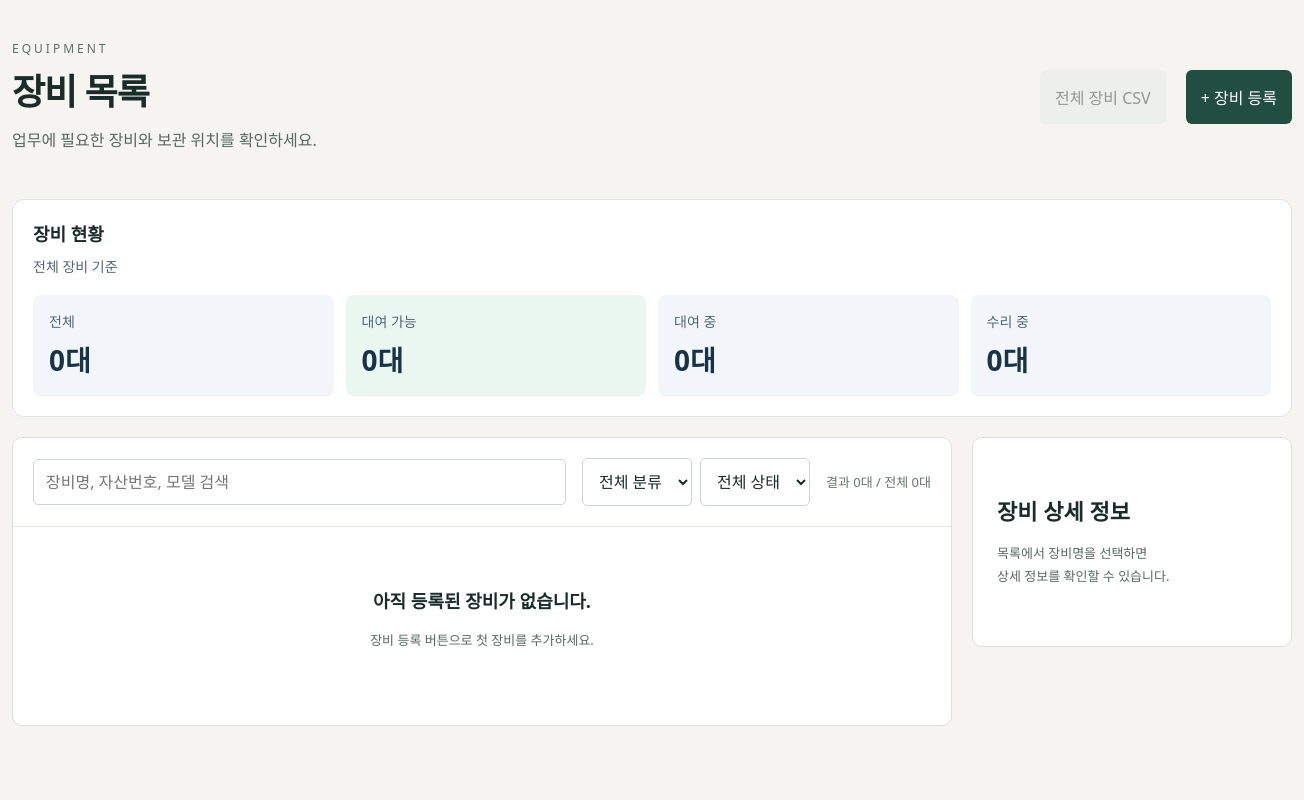
Test case: administrator registers an asset and sees it in the list
Check: the heading "아직 등록된 장비가 없습니다." is shown, box 373,589 -> 591,613
Click the button "+ 장비 등록" at (1239, 97), box 1186,70 -> 1292,124
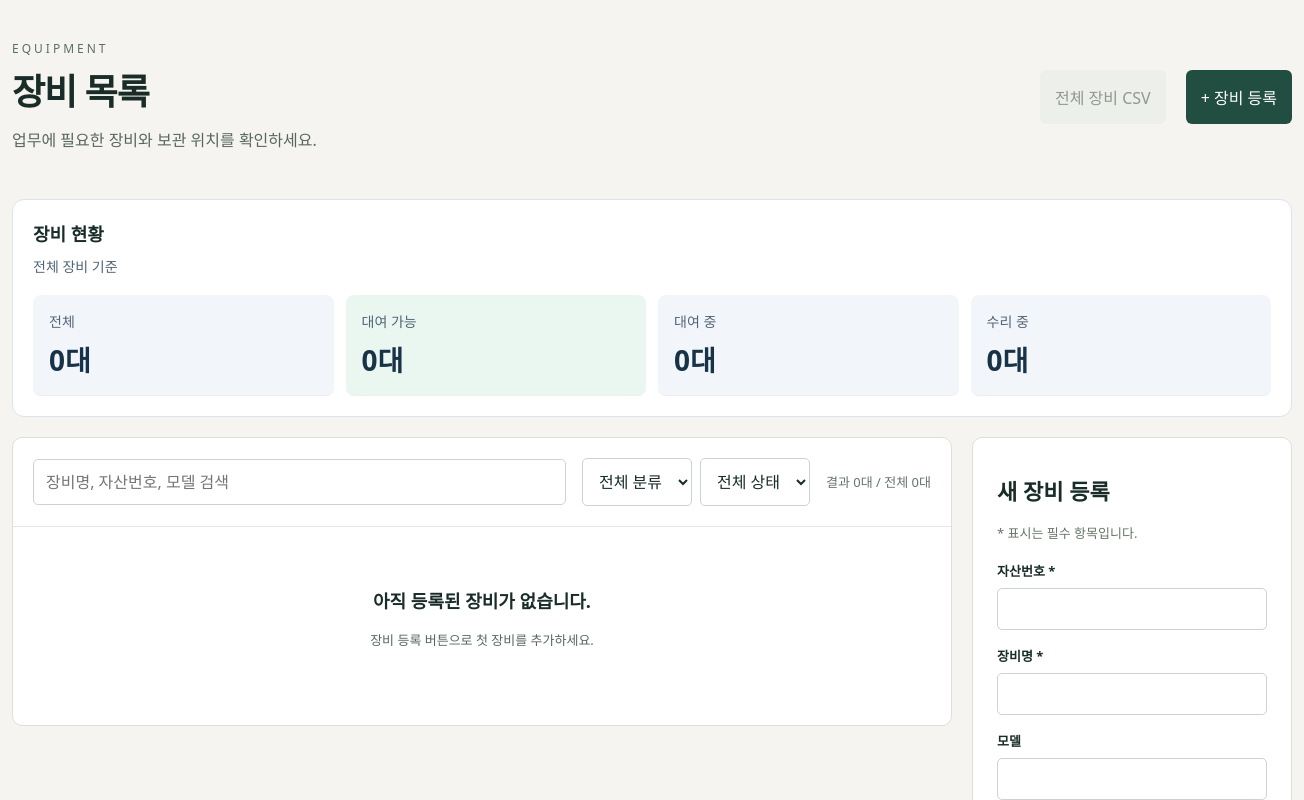
Type "TEST-001" into the field labelled "자산번호 *" at (1132, 609), box 997,588 -> 1267,630
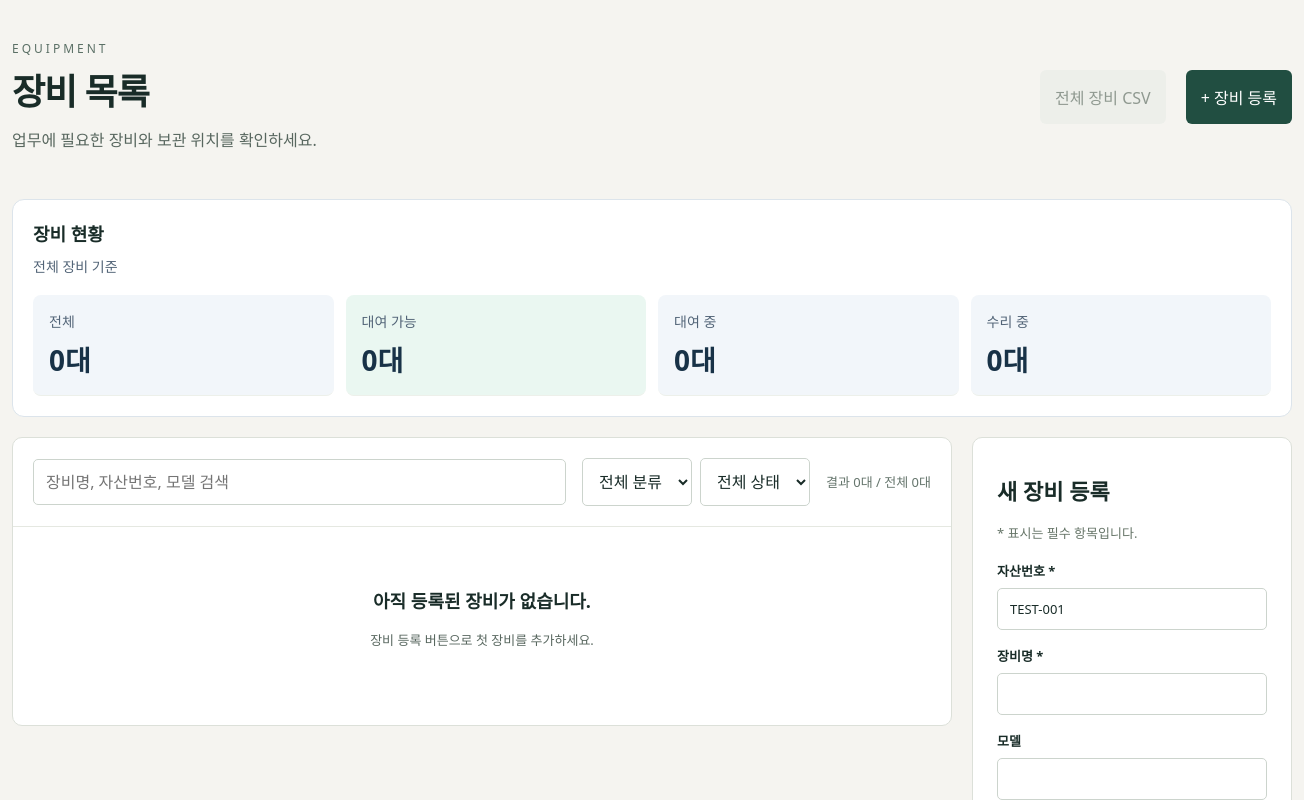
Type "테스트 노트북" into the field labelled "장비명 *" at (1132, 694), box 997,673 -> 1267,715
(page scrolled)
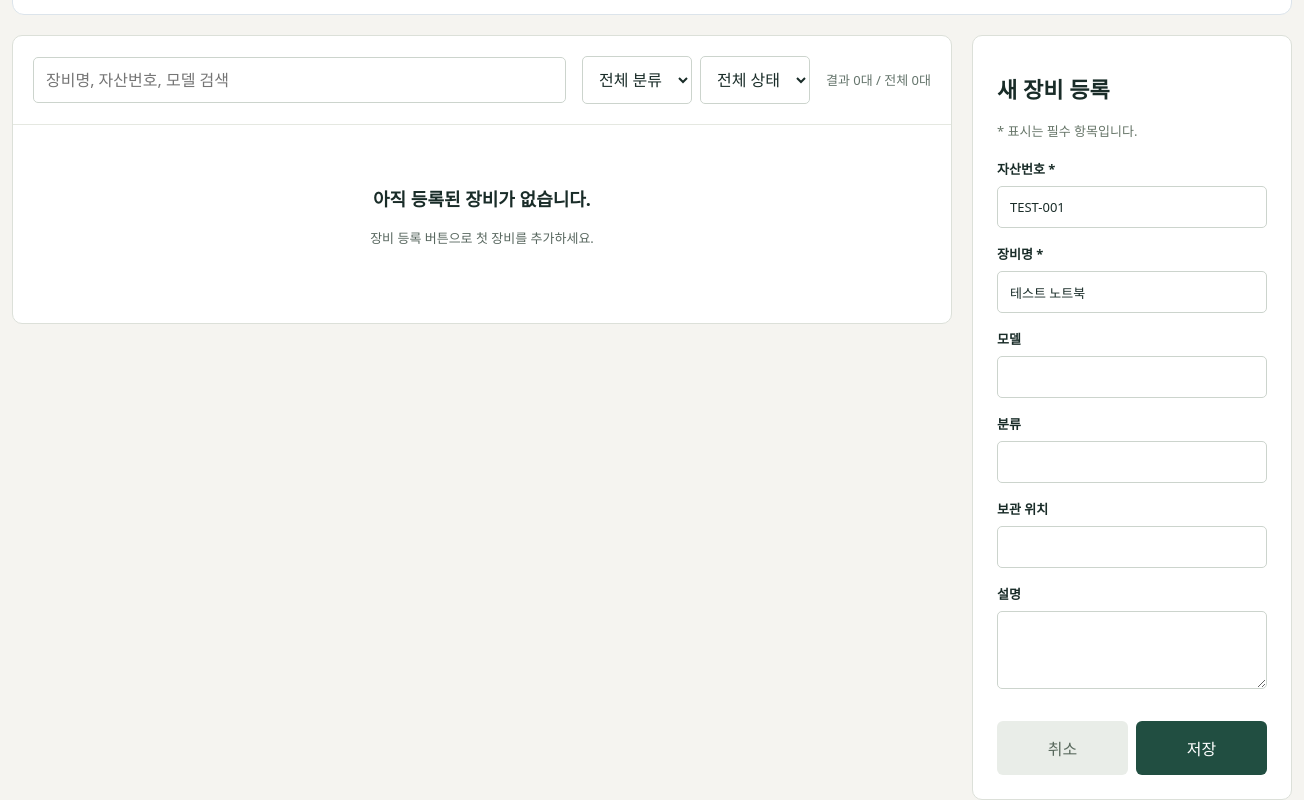
Click the button "저장" at (1202, 748), box 1136,721 -> 1267,775
(page scrolled)
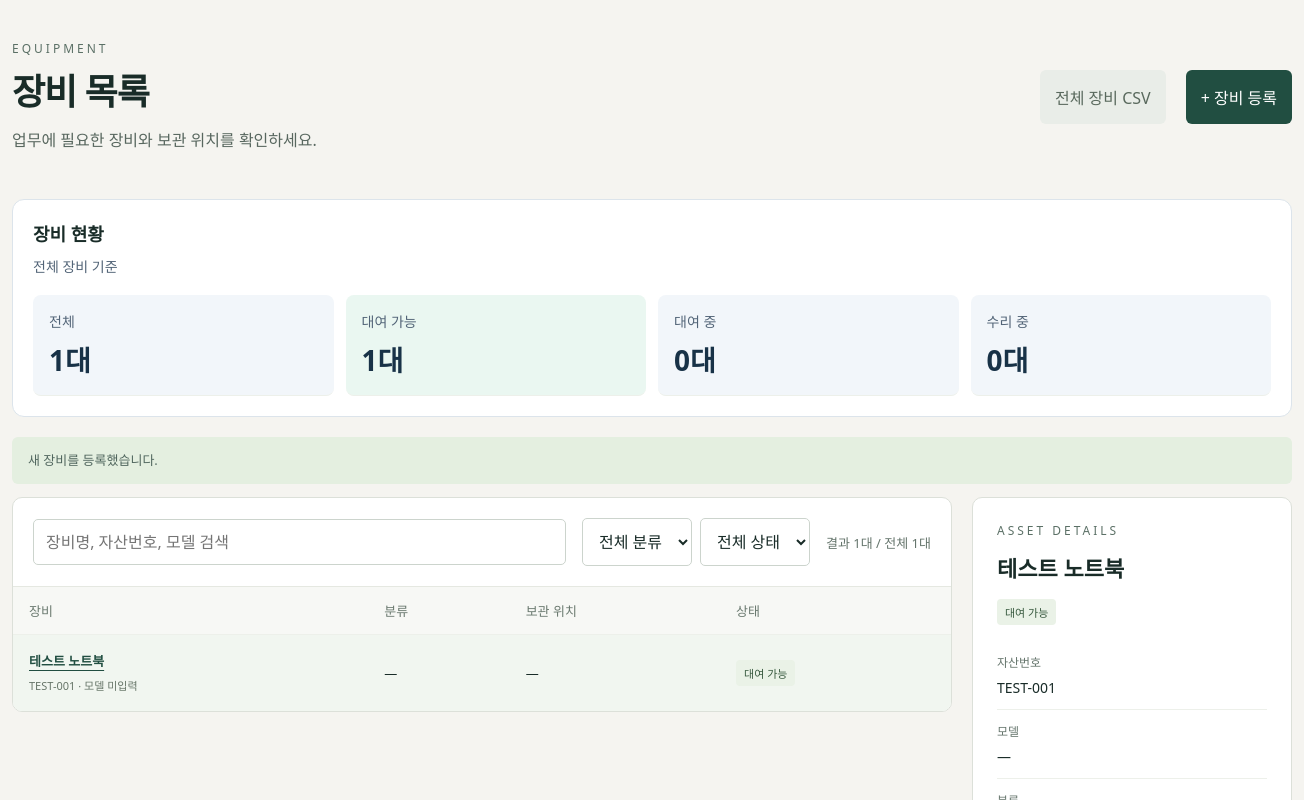
Check: the text "새 장비를 등록했습니다." is shown, box 12,437 -> 1292,484
Check: the button "테스트 노트북" is shown, box 29,651 -> 104,670
Check: the 1st text "1대" is shown, box 49,341 -> 91,379
